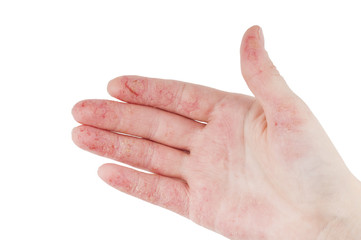Diseased: (86, 68, 239, 217)
